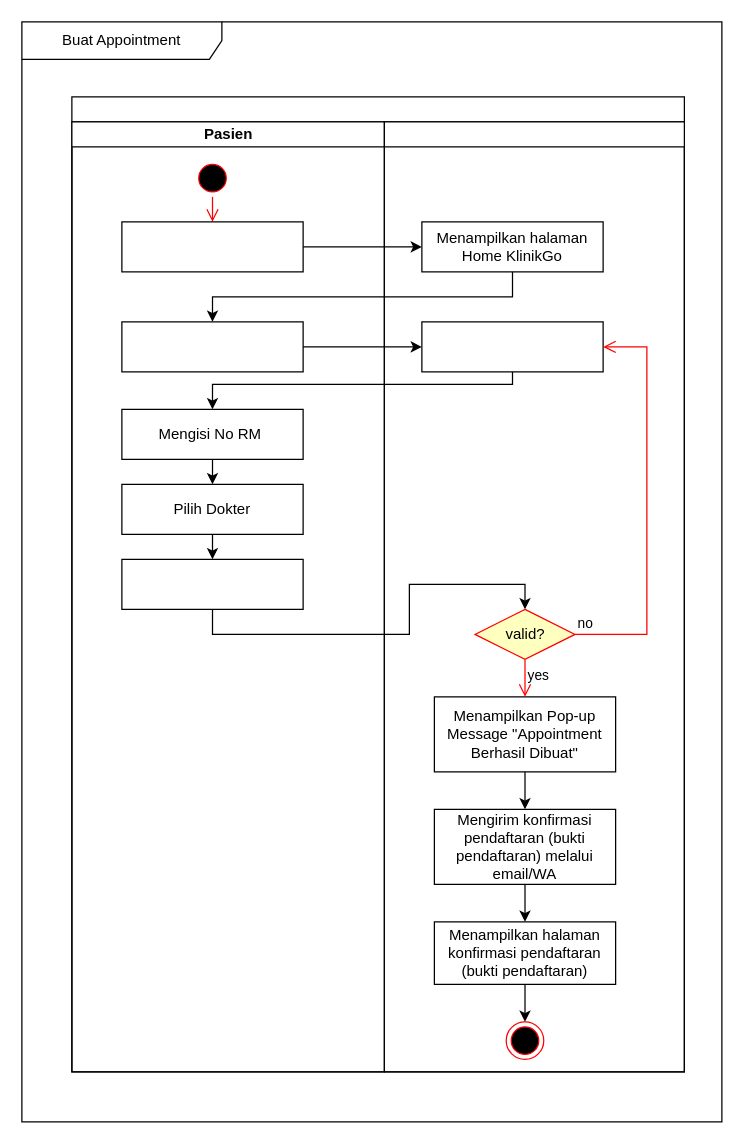
Image size: 744x1144. Some labels were removed from this diagram. Here are the shapes that lost their labels. From the top down, the box of each, then its label:
(121, 221, 303, 272): Membuka halaman Home KlinikGo
(121, 321, 303, 372): Memilih menu Form Appointment
(421, 321, 603, 372): Menampilkan Form Appointment
(121, 558, 303, 609): Pilih Hari dan Jam
(383, 121, 684, 1072): Sistem
